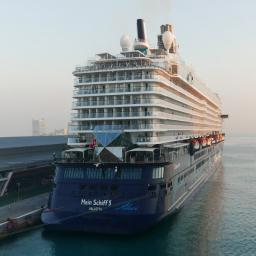cruises: (41, 18, 228, 241)
